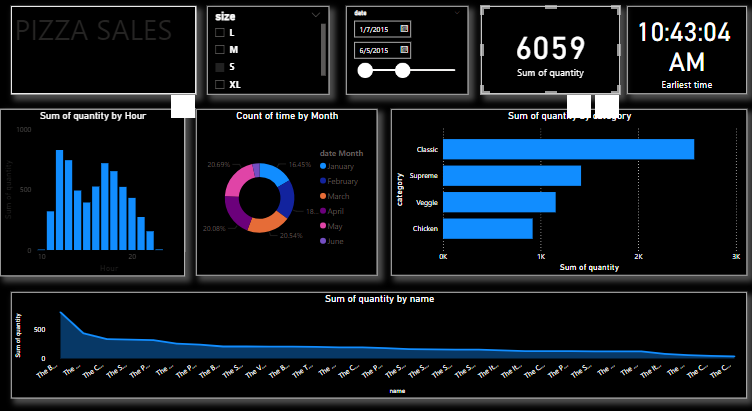

The page's visual inventory and layout, read from the dashboard file:
{"tool":"powerbi","page":{"name":"Page 1","canvas":[1280,720],"ordinal":0},"visuals":[{"type":"barChart","fields":{"Category":["pizza_types.category"],"Y":["Sum(order_details.quantity)"]},"box":[661.8,189.8,603,282.2],"z":0},{"type":"donutChart","fields":{"Y":["CountNonNull(orders.time)"],"Category":["orders.date.Variation.Date Hierarchy.Month"]},"box":[332.6,189.8,307.4,282.2],"z":1000},{"type":"card","fields":{"Values":["Sum(order_details.quantity)"]},"box":[814.7,15.1,235.2,149.5],"z":2000},{"type":"slicer","fields":{"Values":["orders.date"]},"box":[586.2,15.1,206.6,149.5],"z":3000},{"type":"slicer","fields":{"Values":["pizzas.size"]},"box":[351.1,15.1,206.6,149.5],"z":4000},{"type":"textbox","box":[18.5,15.1,314.1,149.5],"z":5000},{"type":"card","fields":{"Values":["Min(orders.time)"]},"box":[1061.6,15.2,203.2,149],"z":6000},{"type":"areaChart","fields":{"Category":["pizza_types.name"],"Y":["Sum(order_details.quantity)"]},"box":[18.5,498.9,1246.4,179.7],"z":7000},{"type":"columnChart","fields":{"Y":["Sum(order_details.quantity)"],"Category":["orders.Hour"]},"box":[0,189.6,313.2,282.8],"z":8000}]}

Visuals, with their boxes in screenshot pixels (x1, y1, x2, y2), scaled from the page's 1280x720 canvas onto the 752x411 screenshot:
barChart - pizza_types.category x Sum(order_details.quantity): x1=389 y1=108 x2=743 y2=269
donutChart - CountNonNull(orders.time) x orders.date.Variation.Date Hierarchy.Month: x1=195 y1=108 x2=376 y2=269
card - Sum(order_details.quantity): x1=479 y1=9 x2=617 y2=94
slicer - orders.date: x1=344 y1=9 x2=466 y2=94
slicer - pizzas.size: x1=206 y1=9 x2=328 y2=94
textbox: x1=11 y1=9 x2=195 y2=94
card - Min(orders.time): x1=624 y1=9 x2=743 y2=94
areaChart - pizza_types.name x Sum(order_details.quantity): x1=11 y1=285 x2=743 y2=387
columnChart - Sum(order_details.quantity) x orders.Hour: x1=0 y1=108 x2=184 y2=270
